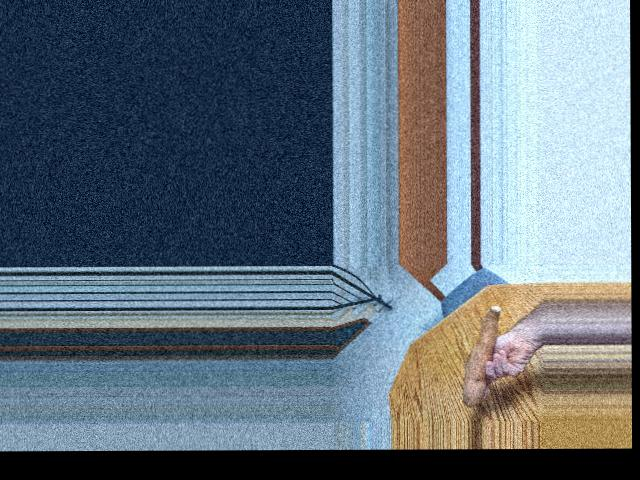sweet_potato: (455, 302, 501, 404)
